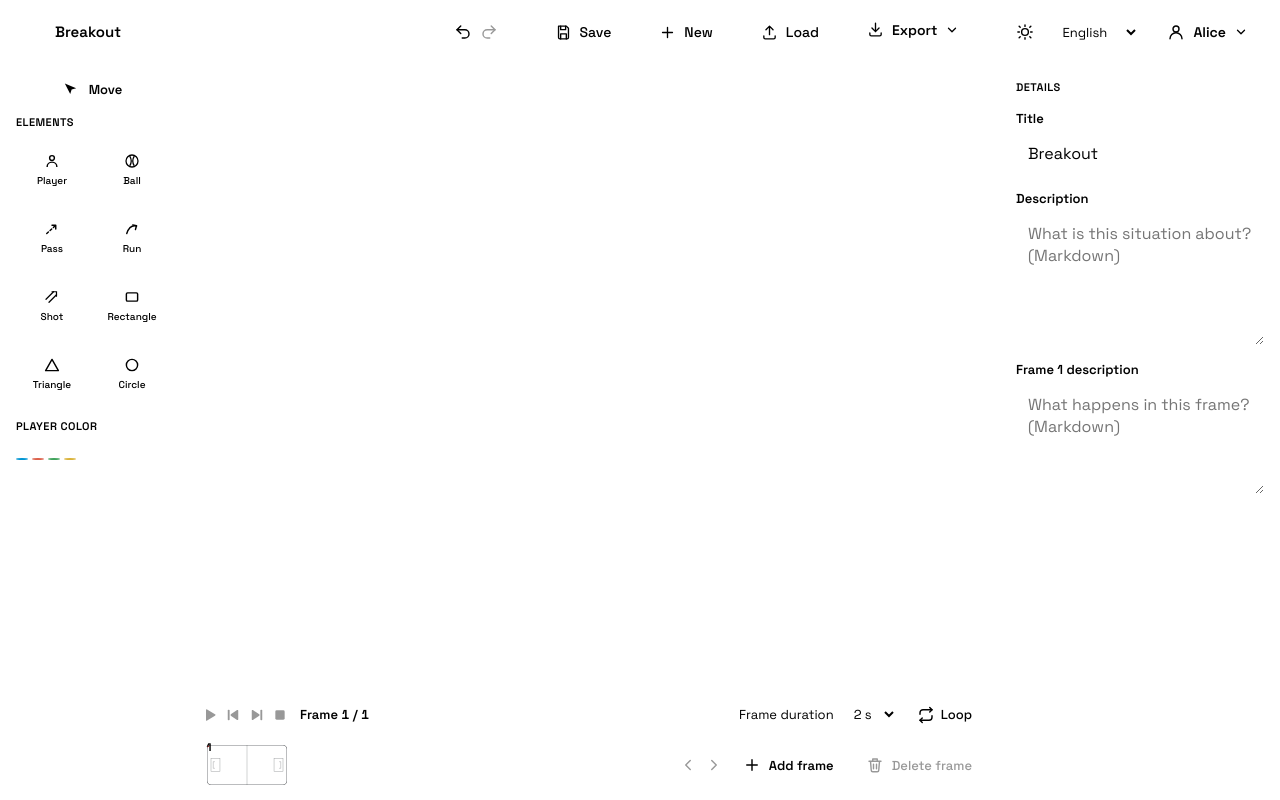
Test: editor page: saving on the server › logged in › shows a taken title as an error in the editor
The width and height of the screenshot is (1280, 800).
Click the button "Save" at (583, 32), box [538, 23, 627, 41]
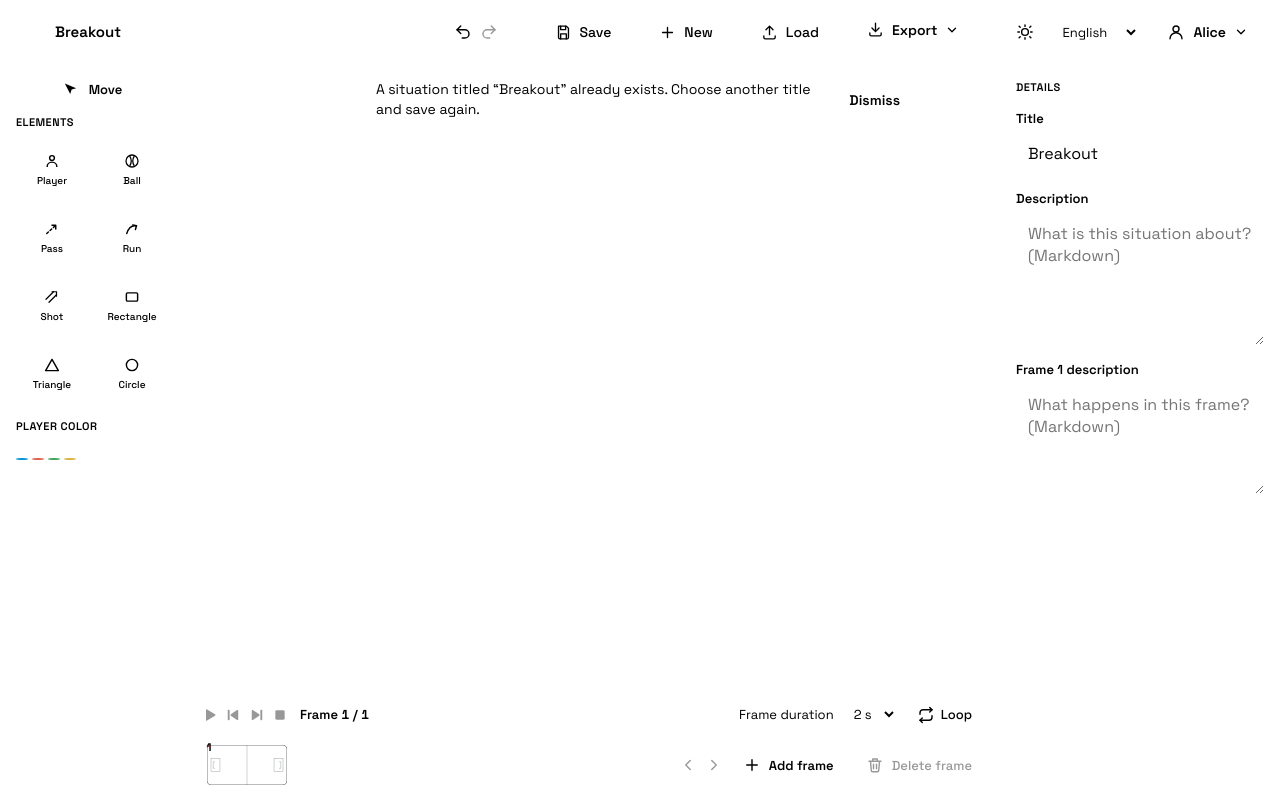
Expected: the message shows "A situation titled “Breakout” already exists. Choose another title and save again.", [376, 80, 810, 118]
Click the button "Dismiss" at (875, 100), box [837, 91, 912, 109]
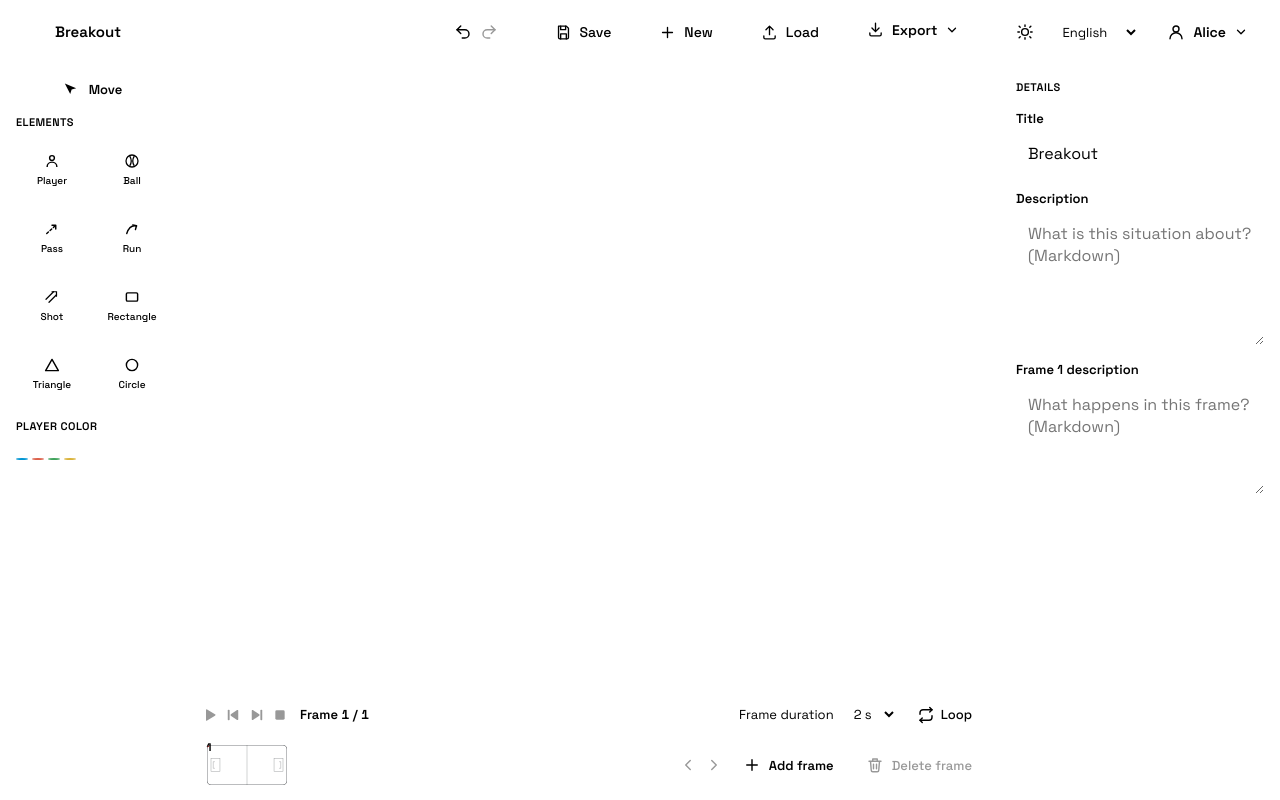
Expected: the message is gone
